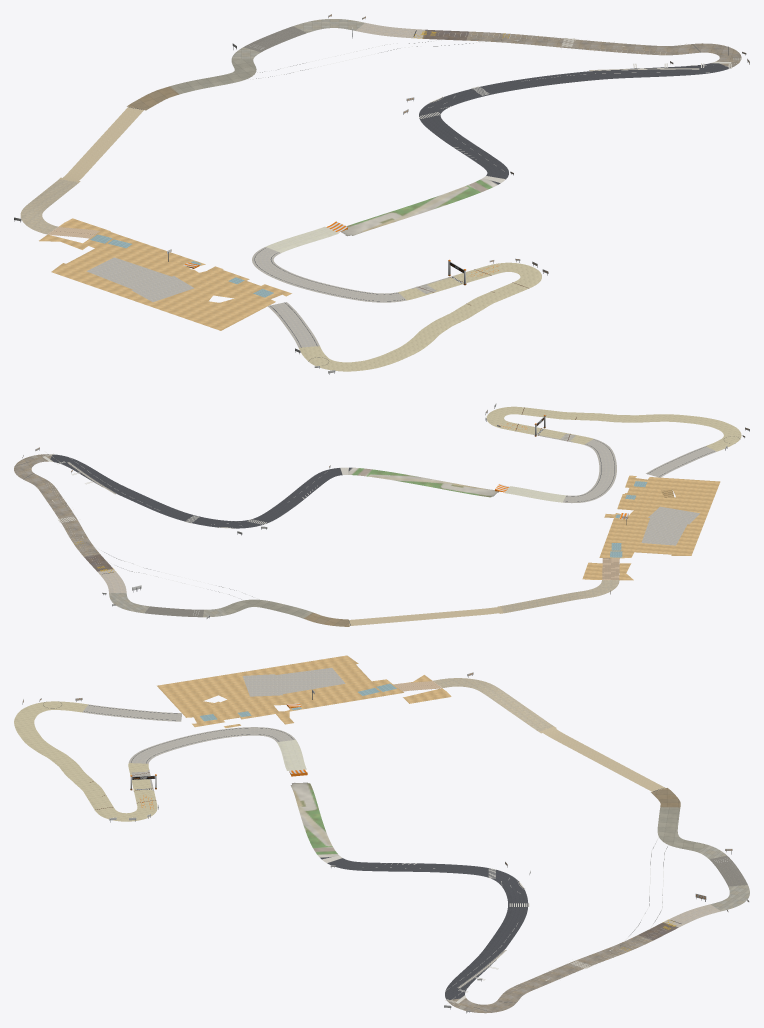
File: TrackSurface.fbx
3 renders of one model, top to bottom at view 1: azimuth 30°, elevation 25°; view 2: azimuth 150°, elevation 25°; view 3: azimuth 270°, elevation 25°, orthographic. The views are drawn at different scales.
Visible parts, largest first — view 1: Track_Road, Track_PlazaDeck_NoCollide, Track_EdgeLines, Track_PlazaLow; view 2: Track_Road, Track_PlazaDeck_NoCollide, Track_EdgeLines, Track_PlazaLow, Track_PlazaStairs_NoCollide; view 3: Track_Road, Track_PlazaDeck_NoCollide, Track_EdgeLines.
Part boxes in pixels (x1,y1,x2,y2): Track_Road: [20, 19, 741, 371]; Track_PlazaDeck_NoCollide: [51, 229, 291, 330]; Track_EdgeLines: [129, 30, 740, 365]; Track_PlazaLow: [39, 218, 223, 270]; Track_Road: [14, 406, 741, 626]; Track_PlazaDeck_NoCollide: [599, 475, 720, 558]; Track_EdgeLines: [15, 407, 740, 625]; Track_PlazaLow: [582, 514, 633, 580]; Track_PlazaStairs_NoCollide: [602, 489, 673, 579]; Track_Road: [14, 678, 749, 1013]; Track_PlazaDeck_NoCollide: [157, 655, 403, 727]; Track_EdgeLines: [43, 702, 727, 1012].
Size of what is drawn, in the model's own units: 394 by 20.03 by 357.
